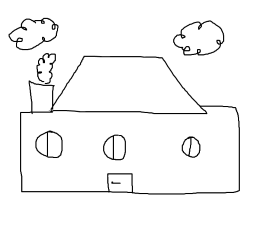clouds: (171, 18, 225, 55), (4, 16, 60, 50)
door: (104, 168, 137, 200)
open_window: (35, 130, 63, 158), (103, 134, 127, 161), (181, 132, 201, 159)
roof: (50, 55, 208, 114)
smoking_chimney: (25, 50, 63, 113)
wall: (15, 105, 239, 197)
